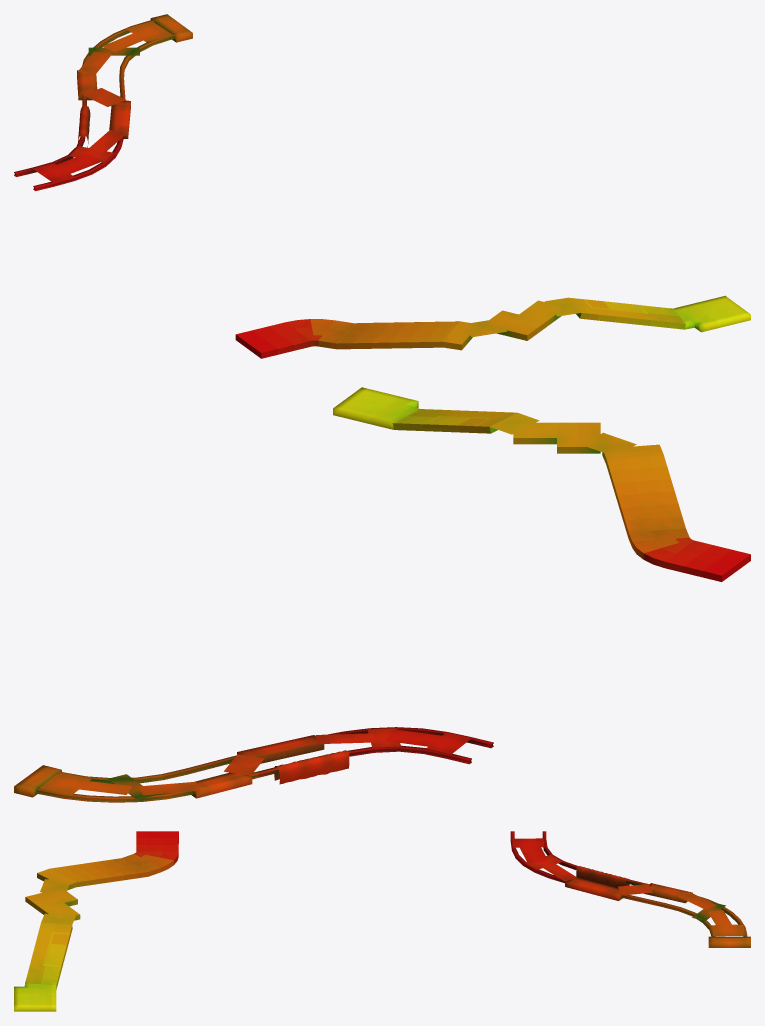
Rendered from SM_RoadModule_D5.fbx.
3 renders of one model, top to bottom at view 1: azimuth 30°, elevation 25°; view 2: azimuth 150°, elevation 25°; view 3: azimuth 270°, elevation 25°, orthographic. The views are drawn at different scales.
Visible parts, largest first — view 1: output0; view 2: output0; view 3: output0.
Boxes of the visible parts, box(x1,y1,x2,y2) form: output0: box(14, 14, 750, 358); output0: box(14, 387, 750, 802); output0: box(14, 831, 750, 1011).
Size of the model in its own units: 7511 by 566 by 13916.
